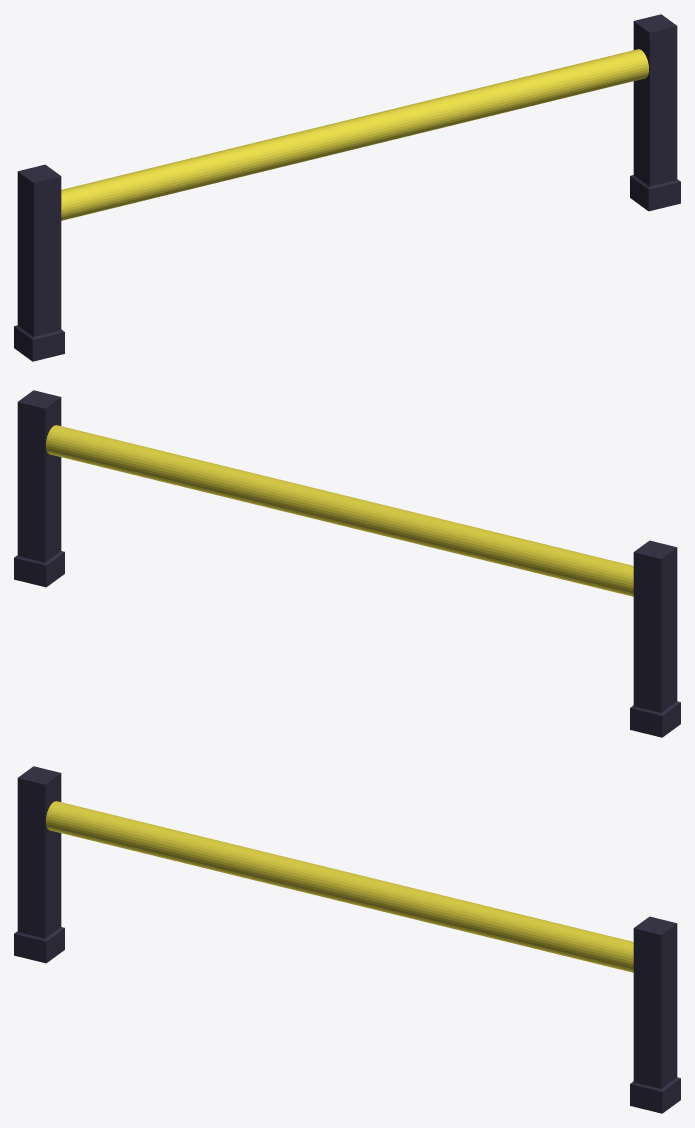
The model's file is SafetyRail.fbx.
The picture shows the model from 3 angles, top to bottom: view 1: azimuth 30°, elevation 25°; view 2: azimuth 150°, elevation 25°; view 3: azimuth 330°, elevation 25°; orthographic projection.
Parts seen in each view (by area): view 1: SafetyRail; view 2: SafetyRail; view 3: SafetyRail.
Part boxes in pixels (bbox=[...]): SafetyRail: bbox=[14, 14, 680, 361]; SafetyRail: bbox=[14, 390, 680, 737]; SafetyRail: bbox=[14, 766, 680, 1113].
Size of the model in its own units: 422 by 110 by 21.08.
